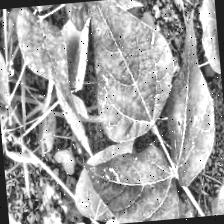ALS: (68, 0, 181, 138), (79, 148, 180, 224)
